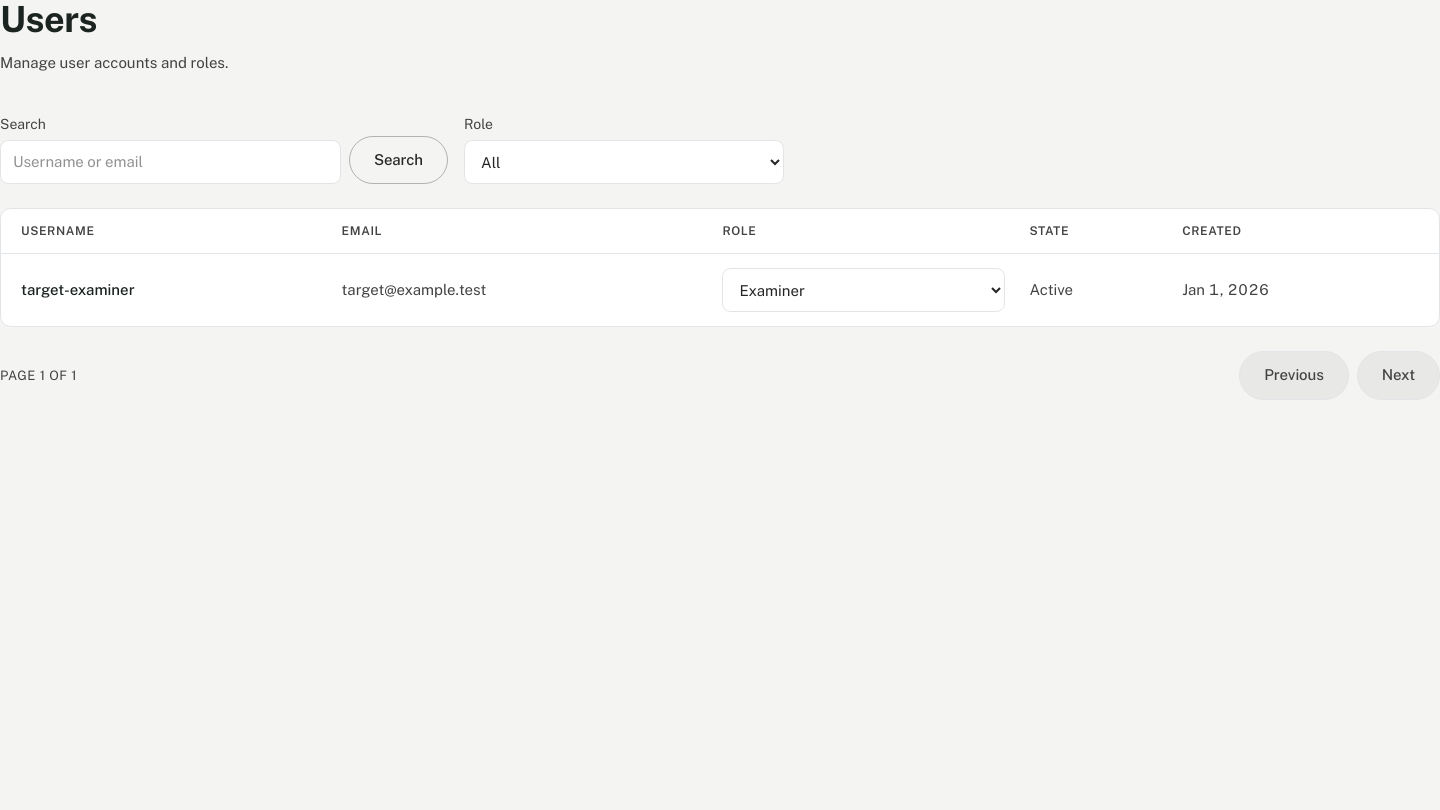
Test case: admin role transition review › requires every replacement, shows impact, and submits the exact map
Check: the text "target-examiner" is shown, box [1,254,330,326]
Select "Student" in the dropdown named "Role for target-examiner" at (864, 290), box [722,268,1005,312]
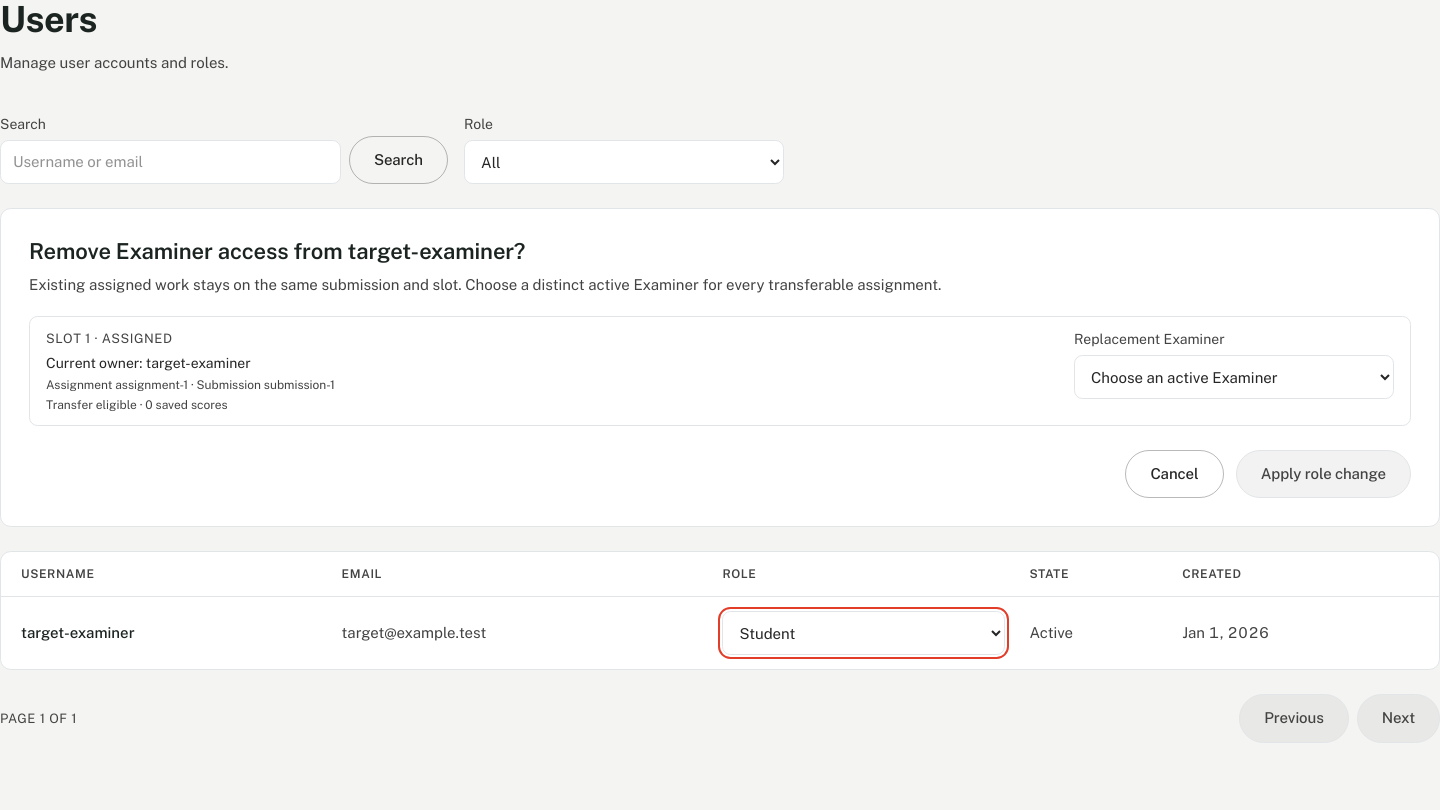
Check: the dialog is shown, box [0,208,1439,527]
Check: the text "Assignment assignment-1 · Submission submission-1" is shown, box [46,377,335,393]
Check: the text "Transfer eligible · 0 saved scores" is shown, box [46,398,228,412]
Select "replacement-examiner · replacement@example.test" in the dropdown labelled "Replacement Examiner" at (1234, 377), box [1074,355,1394,399]
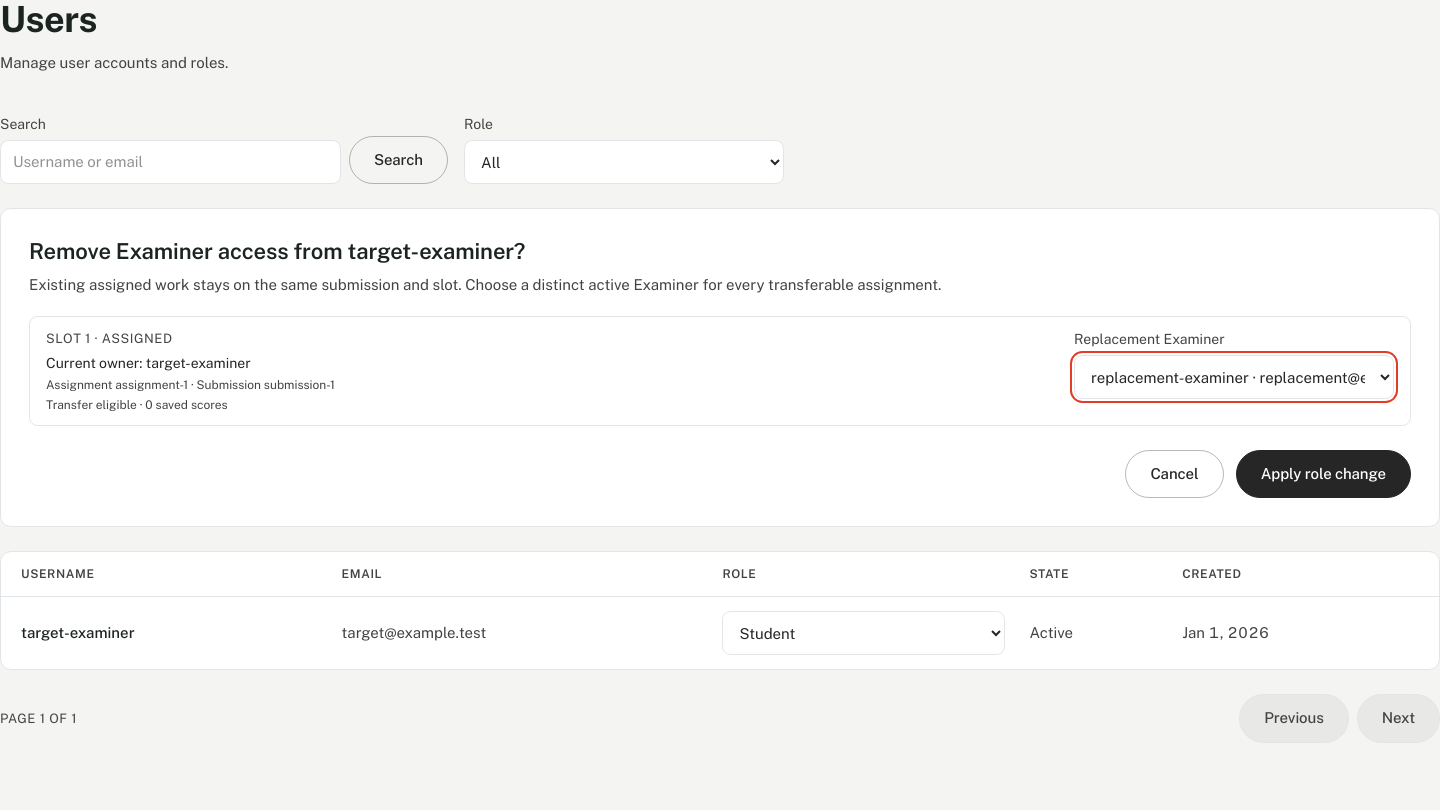
Check: the button "Apply role change" is enabled
Click the button "Apply role change".
click(1323, 474)  # box [1236,450,1411,498]
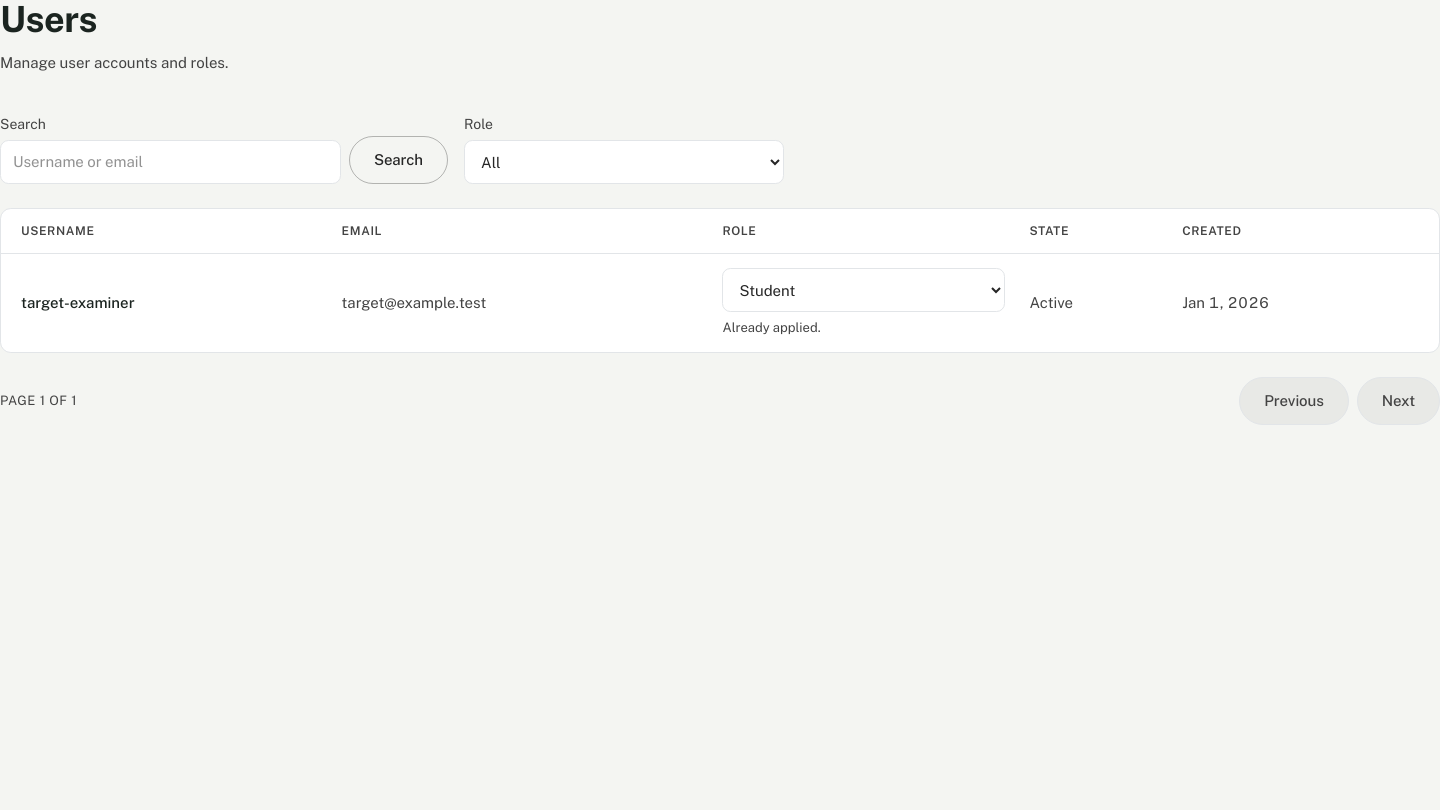
Check: the text "Active" is shown, box [1017,254,1170,352]
Check: the text "Already applied." is shown, box [722,320,821,335]
